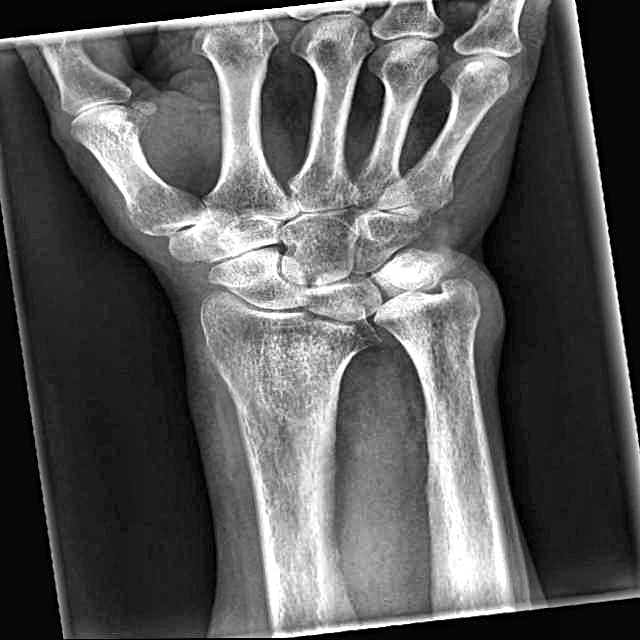Healthy: (98, 26, 566, 580)
